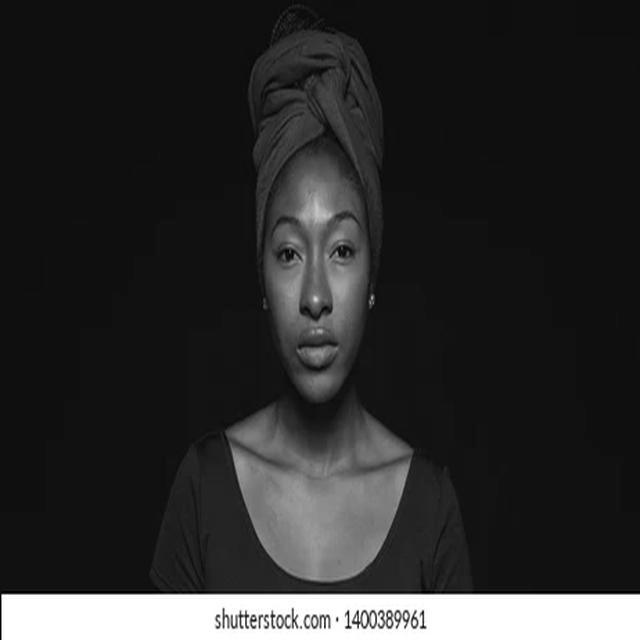Neutral: (264, 153, 370, 404)
